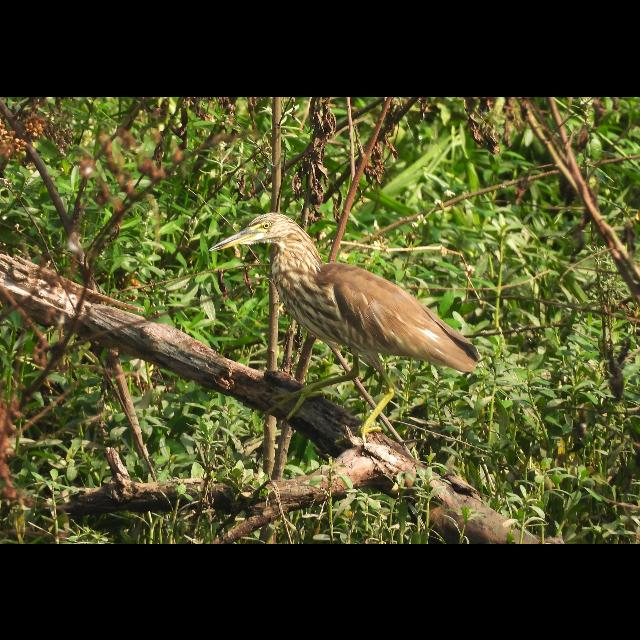heron: (214, 210, 478, 428)
